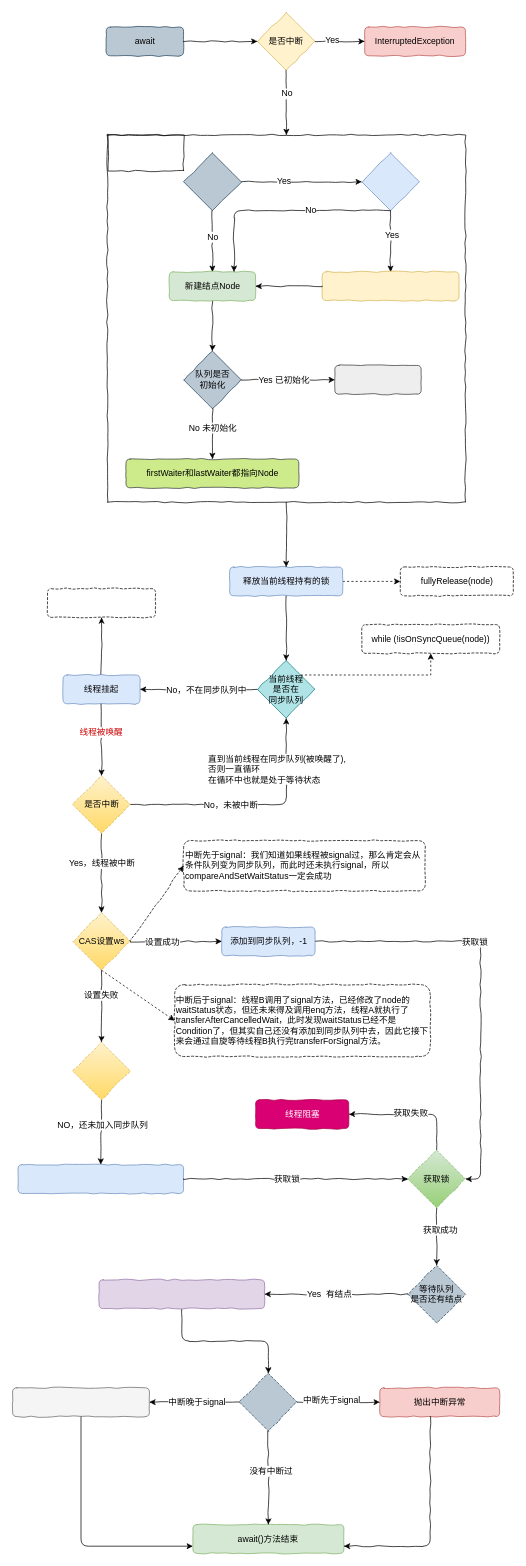
The diagram is 526 pixels wide and 1566 high, and some of its shapes have lost their labels. Here are the shapes that lost their labels. From the top down, the box of each, then its label:
(107, 134, 184, 171): 添加结点
(183, 152, 241, 211): 尾结点是否 为null
(361, 152, 419, 211): ws!=-2
(321, 271, 459, 301): 清除状态不是暂停等待的Node
(334, 365, 421, 394): 将新节点添加到尾部
(47, 588, 156, 617): LockSupport . park ( this );
(72, 1041, 130, 1100): 是否在 同步队列
(17, 1164, 184, 1193): 等待调用signal方法的线程执行完成，1
(98, 1279, 265, 1309): 清空队列中ws不是CONDITION的结点
(12, 1387, 149, 1417): 调用线程中断方法，恢复用户行为
(239, 1373, 297, 1431): 线程是 否中断
